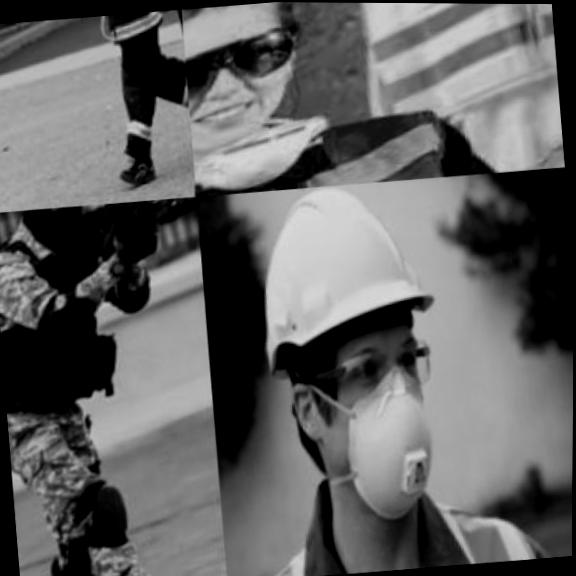safety_vest: (186, 21, 532, 198), (219, 436, 573, 576), (320, 2, 563, 156), (0, 201, 151, 426), (69, 9, 185, 59)
